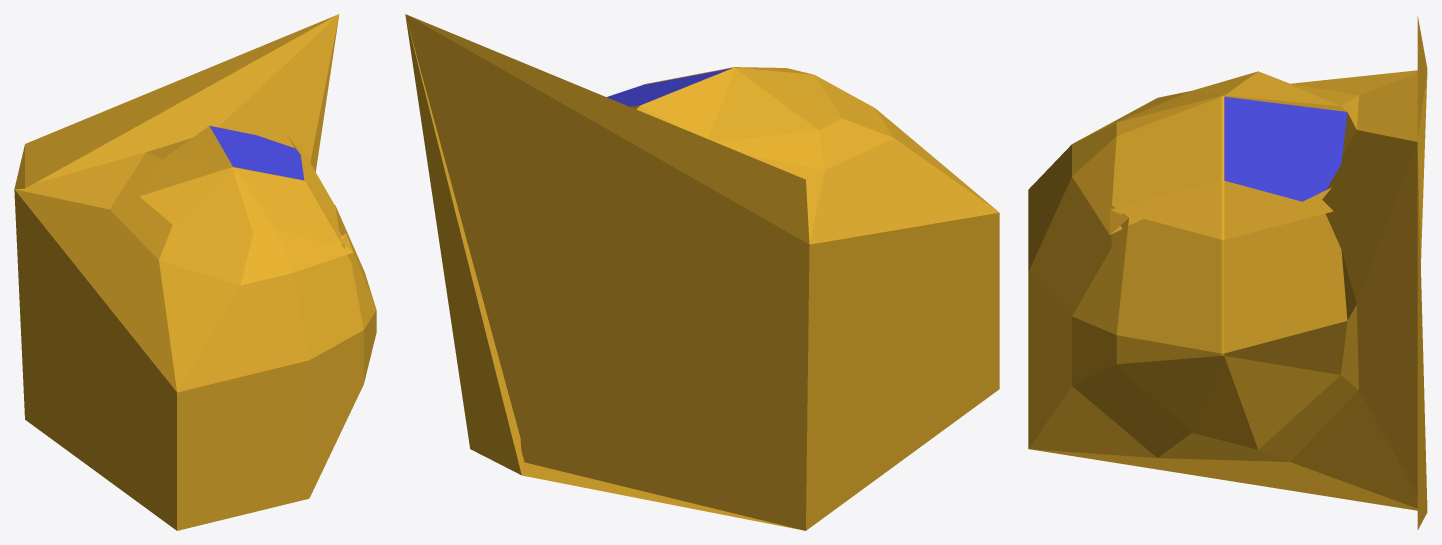
Rendered from random1.glb.
3 renders of one model, left to right at view 1: azimuth 30°, elevation 25°; view 2: azimuth 150°, elevation 25°; view 3: azimuth 270°, elevation 25°, orthographic. The views are drawn at different scales.
Parts seen in each view (by area): view 1: Cube; view 2: Cube; view 3: Cube.
Part boxes in pixels (left/top/right/bottom): Cube: left=14, top=14, right=376, bottom=530; Cube: left=405, top=14, right=999, bottom=530; Cube: left=1028, top=16, right=1427, bottom=529.
Size of the model in its own units: 2.44 by 2.44 by 2.05.
